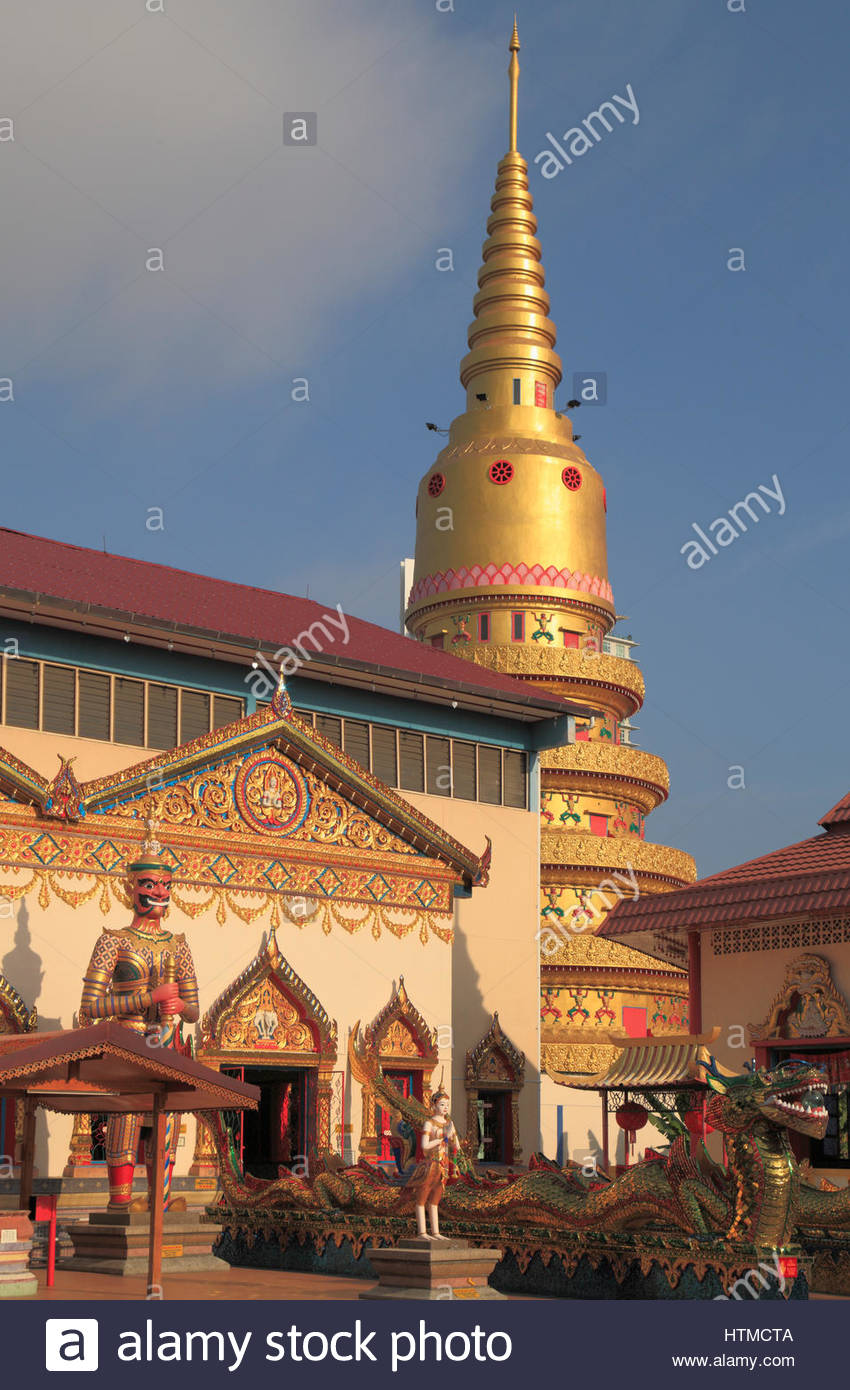Buddhist Temple: (82, 31, 684, 1257)
